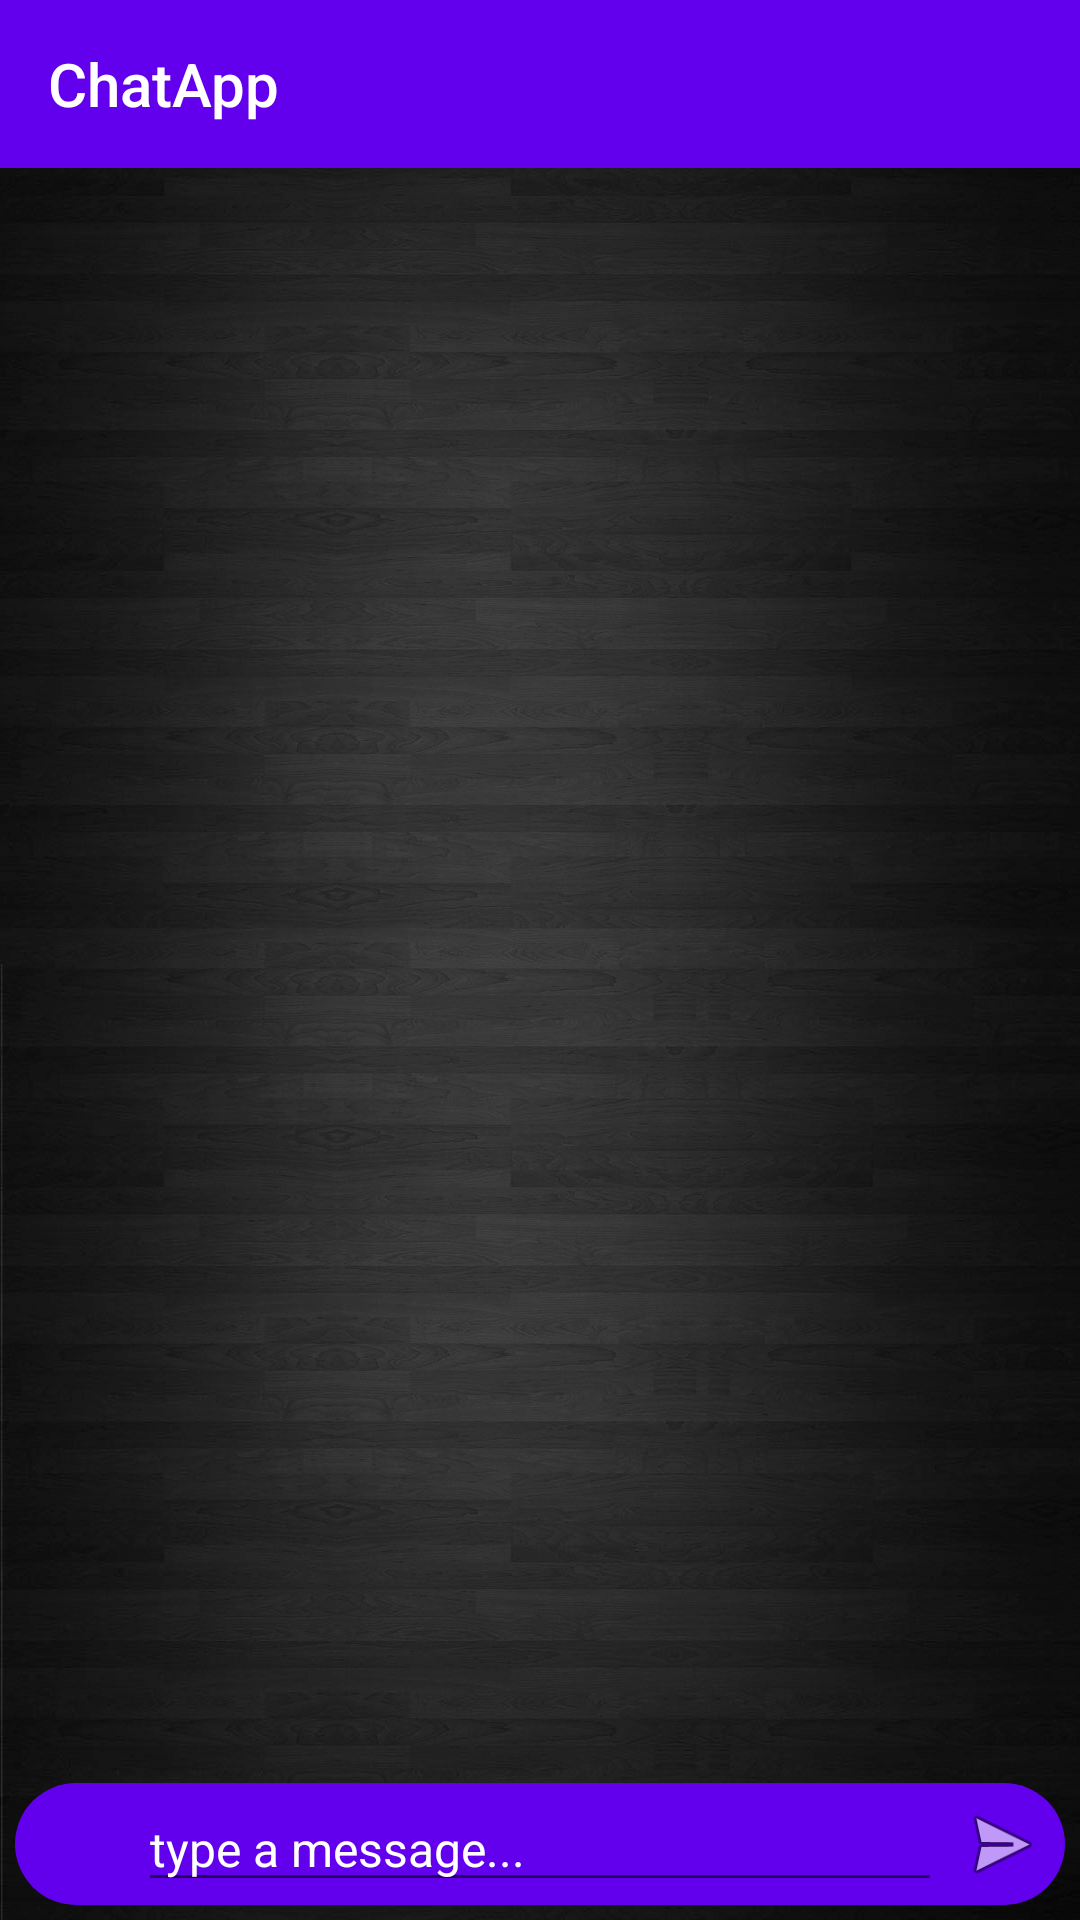

Named icons in this screenshot (1080px x 1920px) and their centers, (x,y):
send: (1002,1844)
